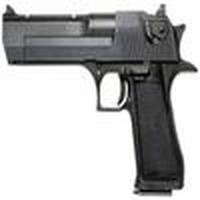gun: (1, 6, 192, 198)
